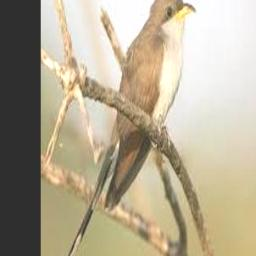Cuckoo: (63, 0, 196, 256)
